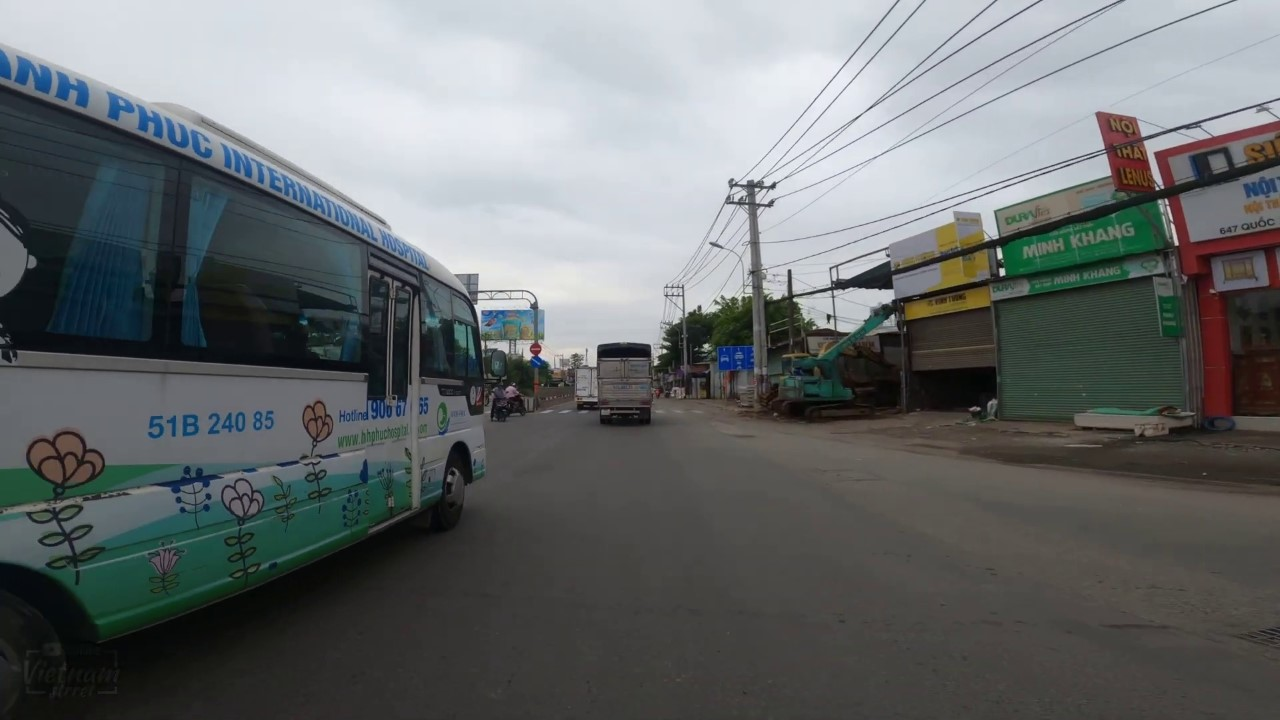cam_nguoc_chieu: (530, 343, 542, 355)
huong_phai_di_vong: (530, 355, 542, 367)
